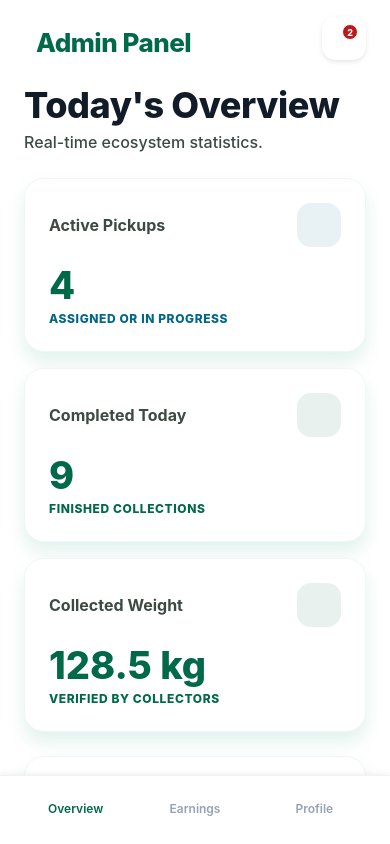
Scenario: AdminHomeScreen › shows three enabled admin nav items and switches to Earnings
The image size is (390, 844).
Check: the tab with test id "admin-nav-overview" is selected, box top-left (48, 800), bottom-right (103, 816)
Check: the tab with test id "admin-nav-profile" is enabled, box top-left (296, 800), bottom-right (333, 816)
Click the tab with test id "admin-nav-earnings" at [195, 808], box top-left (170, 800), bottom-right (220, 816)
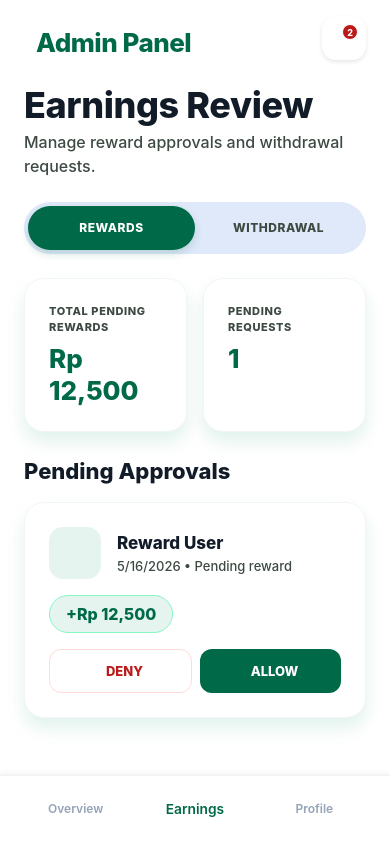
Check: the tab with test id "admin-nav-earnings" is selected, box top-left (166, 800), bottom-right (224, 817)
Check: the text "Earnings Review" is shown, box top-left (24, 83), bottom-right (313, 127)
